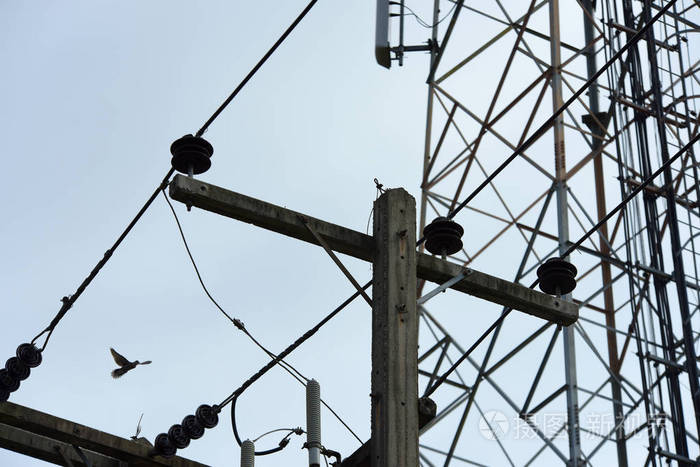insulator: (155, 404, 221, 455), (1, 338, 44, 407), (170, 133, 216, 174), (539, 255, 583, 295), (423, 218, 467, 255)
